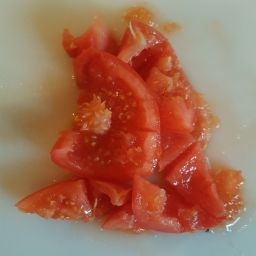Tomato: (29, 3, 253, 252), (62, 31, 164, 176), (154, 82, 247, 232), (52, 6, 194, 102), (5, 178, 174, 238)
